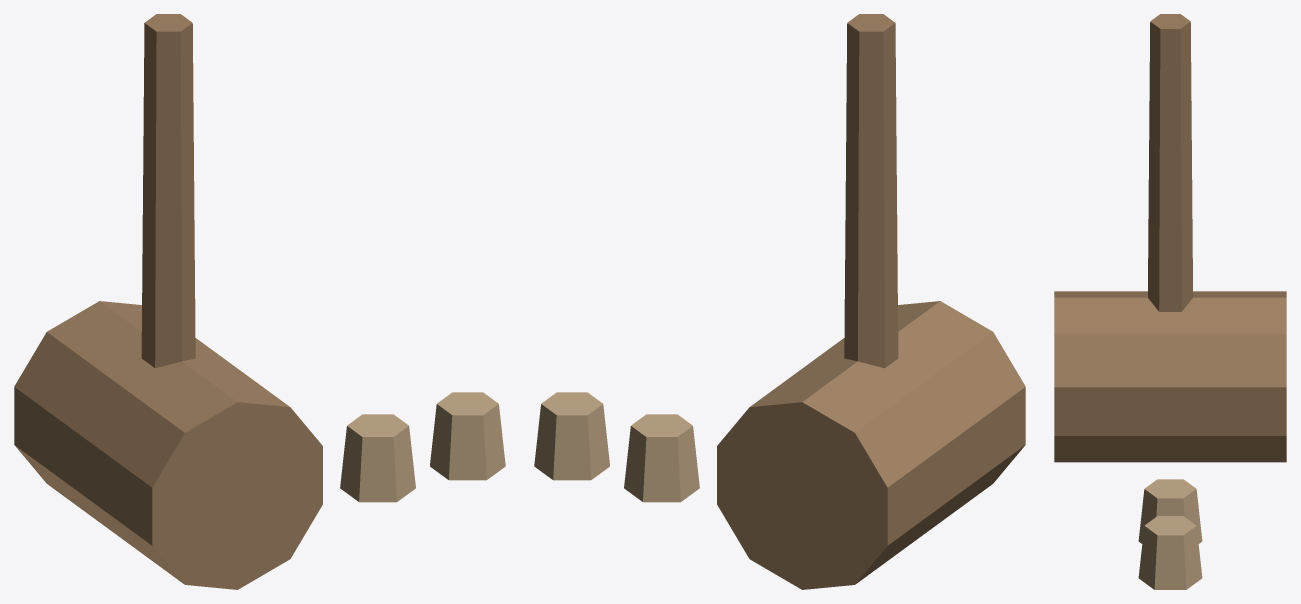
File: prop-bung-mallet.fbx
The picture shows the model from 3 angles, left to right: view 1: azimuth 30°, elevation 25°; view 2: azimuth 150°, elevation 25°; view 3: azimuth 270°, elevation 25°; orthographic projection. The views are drawn at different scales.
Visible parts, largest first — view 1: prop-bung-mallet; view 2: prop-bung-mallet; view 3: prop-bung-mallet.
Boxes of the visible parts, <box> form: prop-bung-mallet: <box>14,14,505,589</box>; prop-bung-mallet: <box>534,14,1025,589</box>; prop-bung-mallet: <box>1054,14,1286,589</box>.
Size of the model in its own units: 27.61 by 33 by 16.
